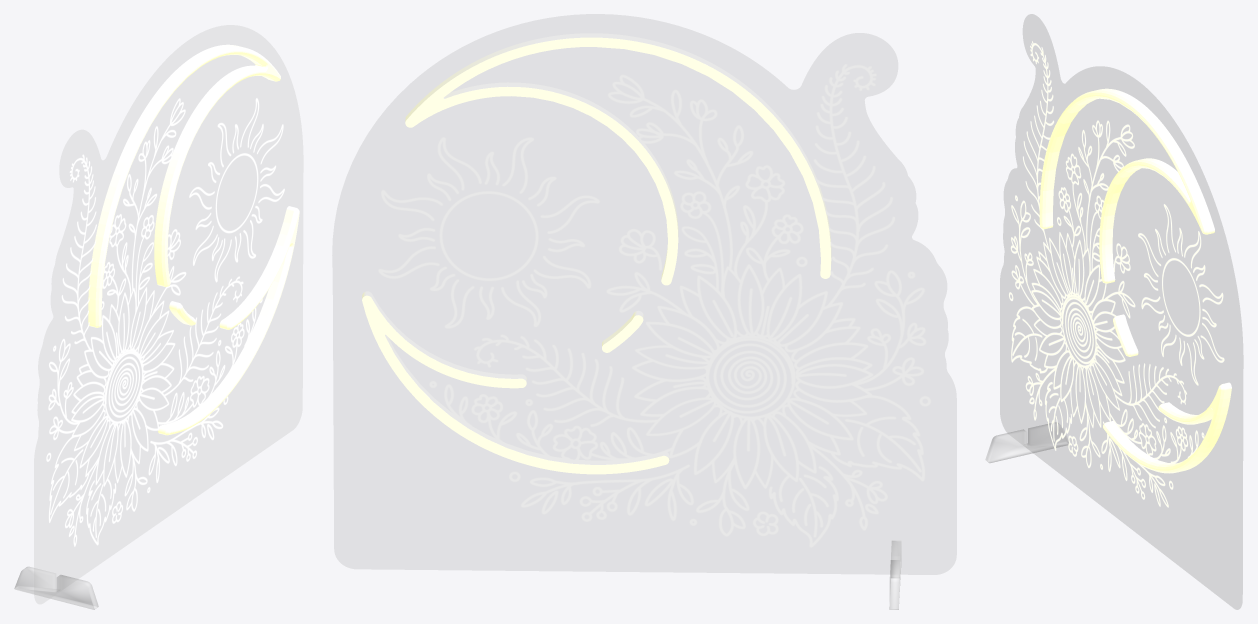
Rendered from TRY 2_МІСЯЦЬ САЙТ.glb.
The picture shows the model from 3 angles, left to right: view 1: azimuth 30°, elevation 25°; view 2: azimuth 150°, elevation 25°; view 3: azimuth 270°, elevation 25°; orthographic projection. The views are drawn at different scales.
Parts seen in each view (by area): view 1: Curve, Ресурс 1, Curve.003, Curve.159; view 2: Curve, Ресурс 1, Curve.003; view 3: Curve, Ресурс 1, Curve.003, Curve.159.
Boxes of the visible parts, x1,y1,x2,y2 form: Curve: [34, 25, 303, 603]; Ресурс 1: [46, 98, 284, 546]; Curve.003: [88, 44, 299, 435]; Curve.159: [14, 567, 98, 609]; Curve: [332, 14, 956, 574]; Ресурс 1: [378, 64, 930, 547]; Curve.003: [362, 33, 831, 474]; Curve: [1000, 14, 1243, 609]; Ресурс 1: [1009, 41, 1224, 507]; Curve.003: [1039, 88, 1231, 473]; Curve.159: [985, 422, 1068, 462].
Size of the model in its own units: 0.2939 by 0.3354 by 0.1702.
Materials: 3 (1 with a texture image).
